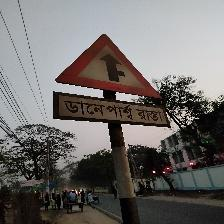Side-road-right: (53, 34, 170, 128)
